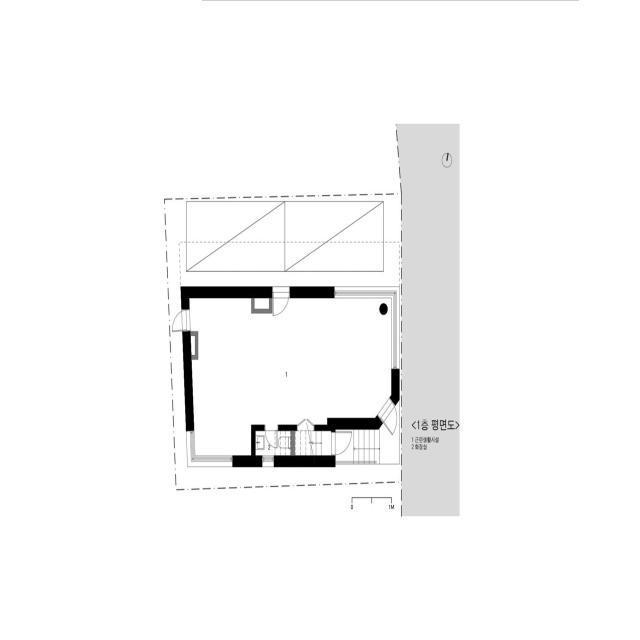space_other: (189, 298, 391, 455), (254, 298, 269, 309), (191, 336, 195, 355)
space_staircase: (311, 430, 380, 464)
space_toilet: (256, 431, 291, 455)
